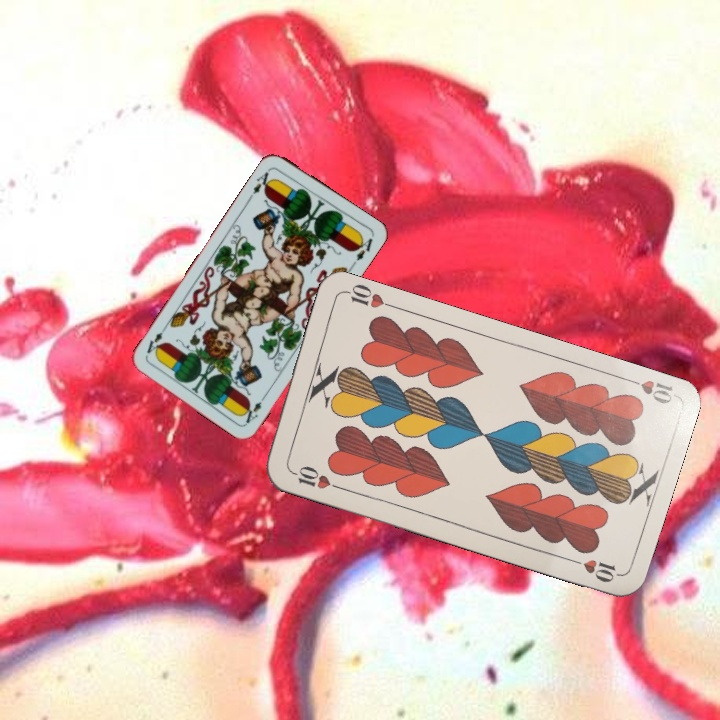EA: (245, 165, 276, 202), (240, 390, 269, 426)
H10: (620, 373, 676, 407), (286, 462, 343, 492)
